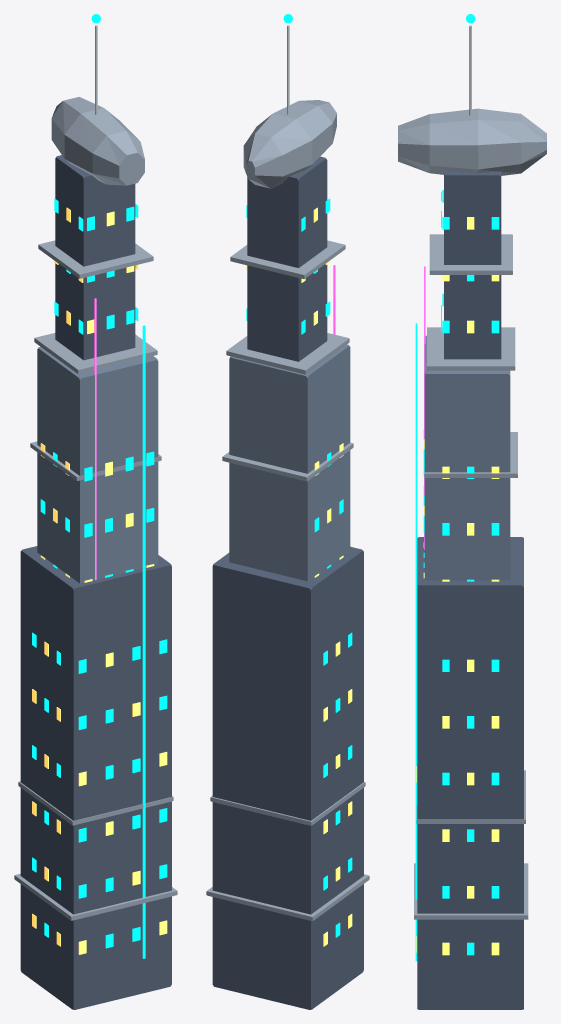
Rendered from neon_landmark.glb.
3 renders of one model, left to right at view 1: azimuth 30°, elevation 25°; view 2: azimuth 150°, elevation 25°; view 3: azimuth 270°, elevation 25°, orthographic.
Visible parts, largest first — view 1: Obsidian_cladding, Blue_titanium_facade, Brushed_alloy, Cyan_lightguide, Amber_signal, Magenta_lightguide; view 2: Obsidian_cladding, Blue_titanium_facade, Brushed_alloy, Cyan_lightguide, Amber_signal; view 3: Obsidian_cladding, Blue_titanium_facade, Brushed_alloy, Cyan_lightguide, Amber_signal.
Part boxes in pixels (x1,y1,x2,y2): Obsidian_cladding: [20, 155, 171, 1009]; Blue_titanium_facade: [37, 346, 158, 583]; Brushed_alloy: [14, 97, 177, 920]; Cyan_lightguide: [32, 14, 167, 958]; Amber_signal: [32, 207, 167, 954]; Magenta_lightguide: [94, 298, 96, 579]; Obsidian_cladding: [212, 156, 363, 1009]; Blue_titanium_facade: [229, 344, 350, 581]; Brushed_alloy: [206, 100, 369, 921]; Cyan_lightguide: [246, 14, 352, 937]; Amber_signal: [246, 207, 352, 946]; Obsidian_cladding: [417, 171, 523, 1009]; Blue_titanium_facade: [424, 335, 510, 580]; Brushed_alloy: [398, 108, 546, 919]; Cyan_lightguide: [415, 14, 499, 961]; Amber_signal: [416, 201, 499, 955].
Bounding box in the file's own units: 4.75 × 41.18 × 5.72.
Materials: 7 (7 with a texture image).
